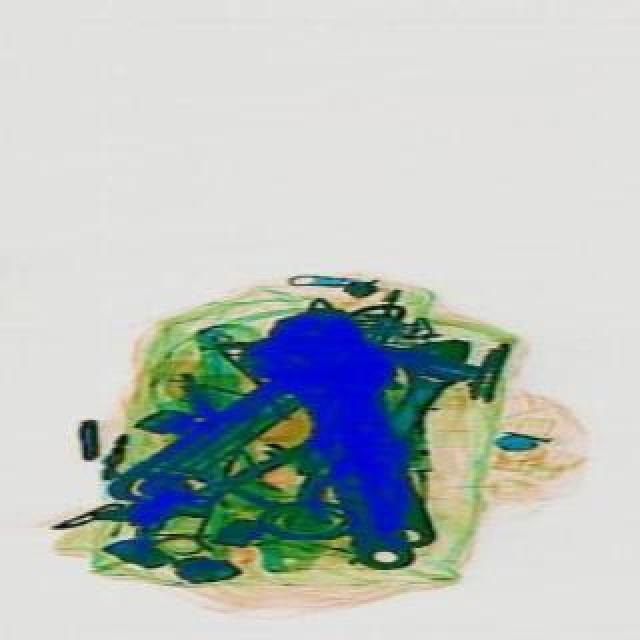scissors: (356, 320, 486, 462)
